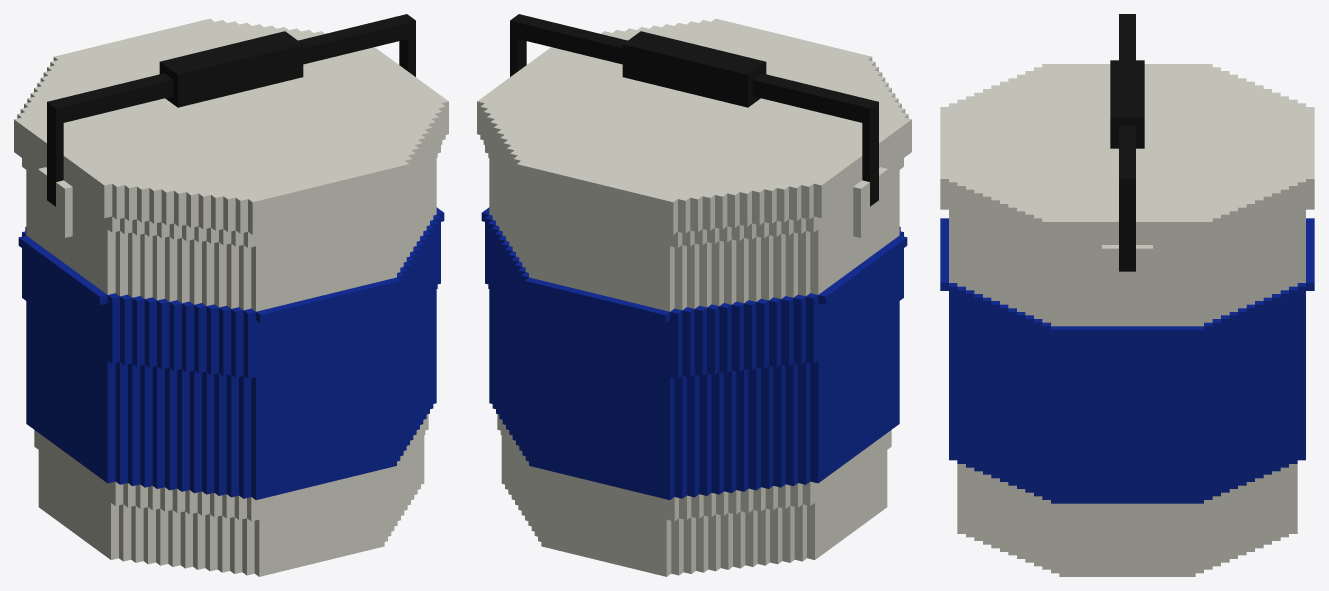
The model's file is paint_can_plastic.glb.
3 views of the same model, side by side, from view 1: azimuth 30°, elevation 25°; view 2: azimuth 150°, elevation 25°; view 3: azimuth 270°, elevation 25° (orthographic). The views are drawn at different scales.
Parts seen in each view (by area): view 1: paint_can_plastic:compound; view 2: paint_can_plastic:compound; view 3: paint_can_plastic:compound.
Part boxes in pixels (x1,y1,x2,y2): paint_can_plastic:compound: (14, 14, 448, 576); paint_can_plastic:compound: (477, 14, 911, 576); paint_can_plastic:compound: (940, 14, 1314, 576).
Size of the model in its own units: 0.184 by 0.216 by 0.176.
